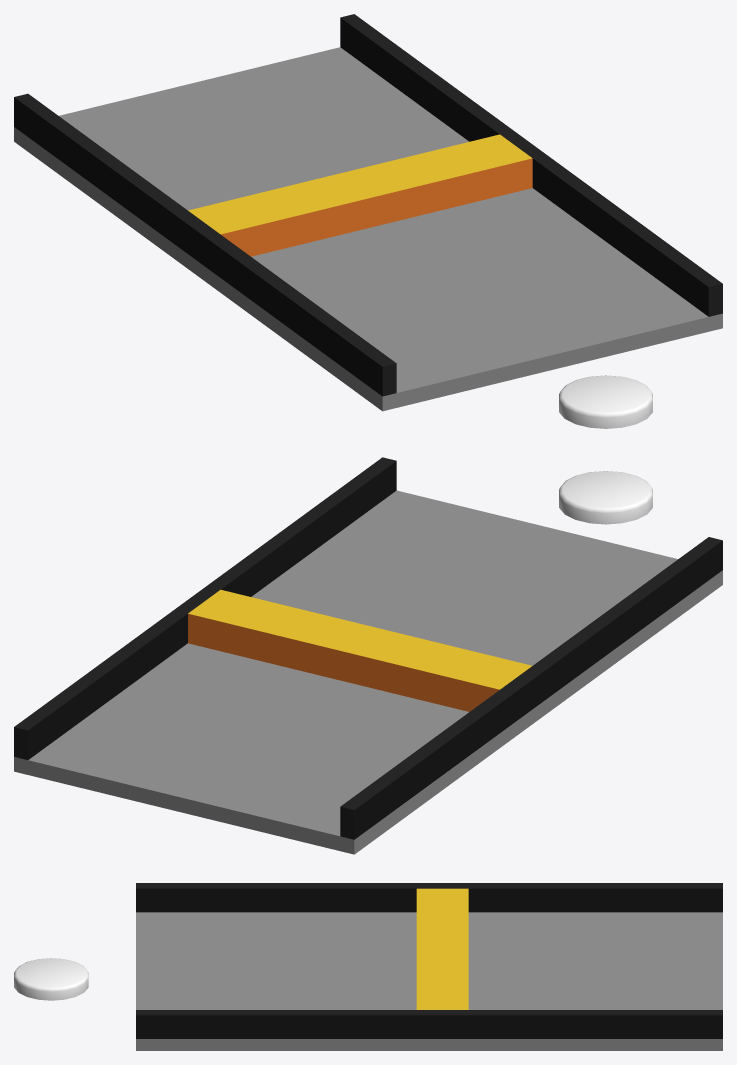
File: Props.FBX
3 views of the same model, one above another, from view 1: azimuth 30°, elevation 25°; view 2: azimuth 150°, elevation 25°; view 3: azimuth 270°, elevation 25° (orthographic). The views are drawn at different scales.
Parts seen in each view (by area): view 1: Track, Track001, Wall L, Wall R, Cylinder; view 2: Track, Track001, Wall L, Wall R, Cylinder; view 3: Track, Wall R, Wall L, Track001, Cylinder.
Boxes of the visible parts, x1,y1,x2,y2 form: Track: (14, 47, 722, 411); Track001: (188, 134, 532, 256); Wall L: (14, 93, 396, 396); Wall R: (340, 14, 722, 316); Cylinder: (559, 375, 652, 428); Track: (14, 490, 722, 854); Track001: (188, 589, 532, 711); Wall L: (340, 537, 722, 839); Wall R: (14, 457, 396, 759); Cylinder: (559, 471, 652, 524); Track: (136, 912, 722, 1050); Wall R: (136, 1010, 722, 1038); Wall L: (136, 883, 722, 912); Track001: (416, 888, 468, 1009); Cylinder: (14, 958, 88, 1000).
Bounding box in the file's own units: 120 × 15 × 272.
